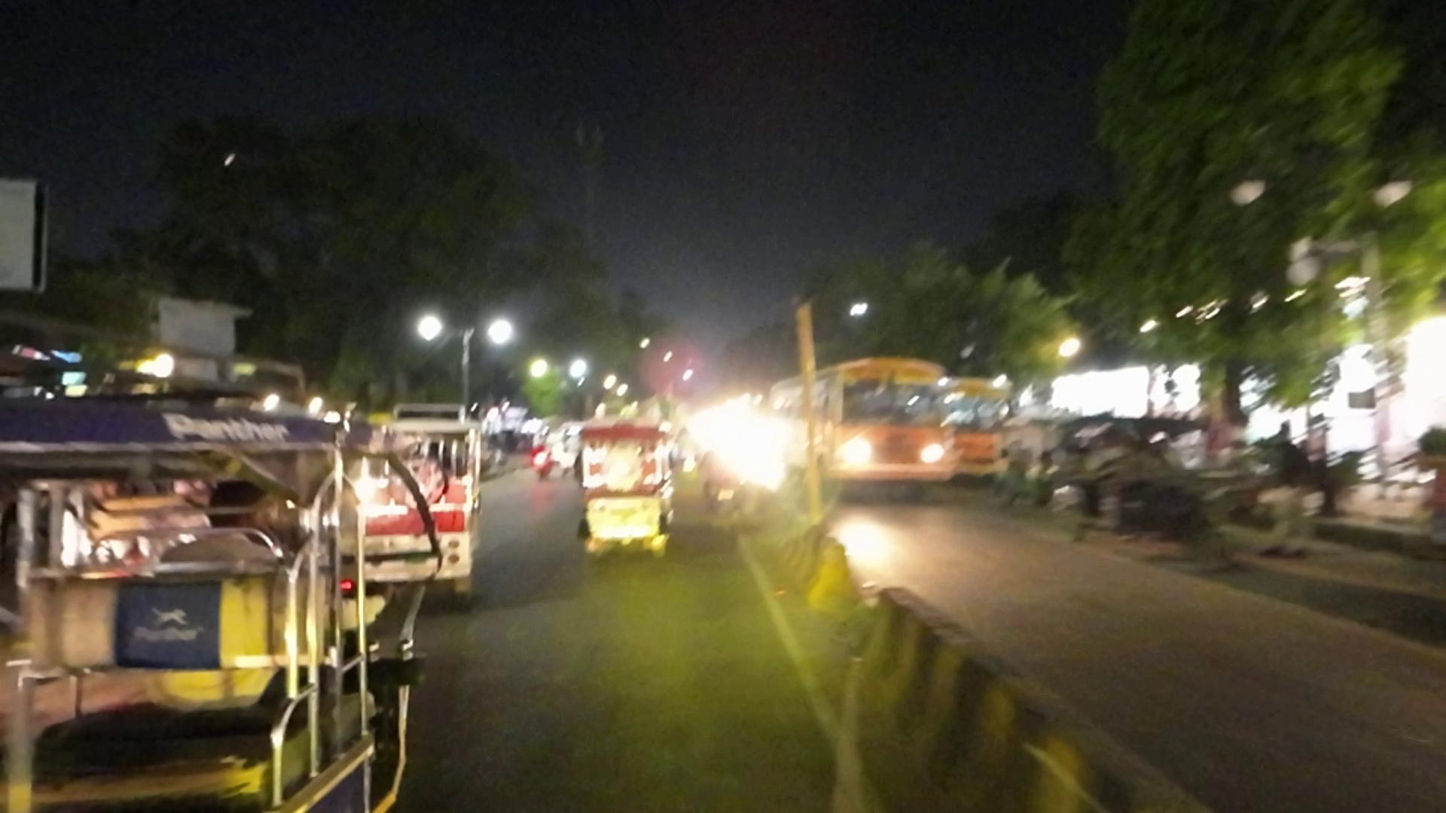streetlight: (1363, 155, 1418, 217), (1233, 140, 1275, 219)
